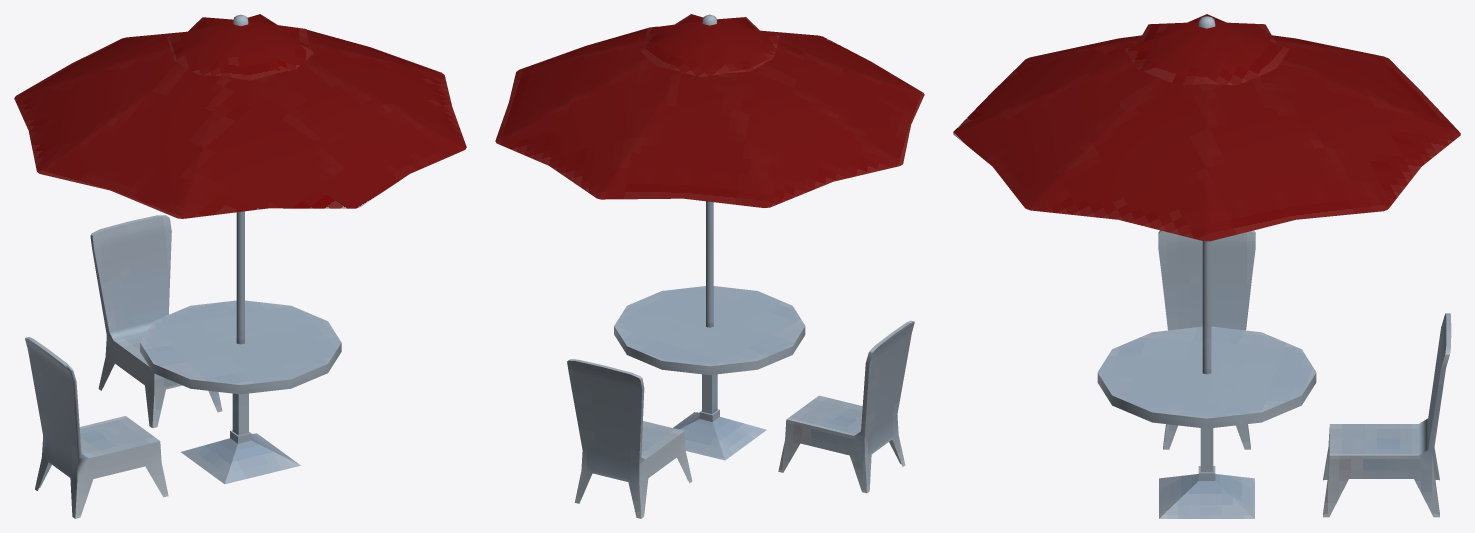
File: objects_un_t06table01.gltf
The picture shows the model from 3 angles, left to right: view 1: azimuth 30°, elevation 25°; view 2: azimuth 150°, elevation 25°; view 3: azimuth 270°, elevation 25°; orthographic projection. The views are drawn at different scales.
Visible parts, largest first — view 1: t06table01_shape:objects_un_t06table01_01, t06table01_shape:objects_un_t06table01_02; view 2: t06table01_shape:objects_un_t06table01_01, t06table01_shape:objects_un_t06table01_02; view 3: t06table01_shape:objects_un_t06table01_01, t06table01_shape:objects_un_t06table01_02.
Boxes of the visible parts, bbox=[...] form: t06table01_shape:objects_un_t06table01_01: bbox=[14, 14, 466, 518]; t06table01_shape:objects_un_t06table01_02: bbox=[25, 14, 341, 484]; t06table01_shape:objects_un_t06table01_01: bbox=[495, 14, 924, 518]; t06table01_shape:objects_un_t06table01_02: bbox=[567, 14, 914, 463]; t06table01_shape:objects_un_t06table01_01: bbox=[953, 14, 1460, 517]; t06table01_shape:objects_un_t06table01_02: bbox=[1097, 16, 1451, 518].
Size of what is drawn, in the model's own units: 2.73 by 2.86 by 2.73.
2 materials, 2 textured.
